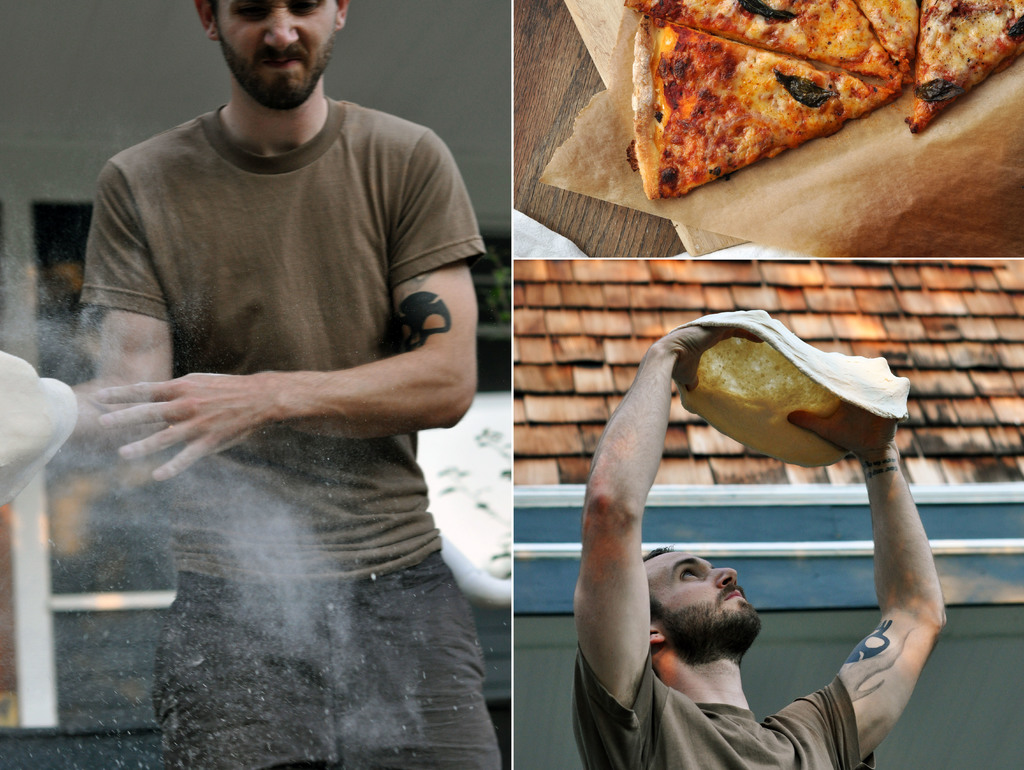Pizza: (603, 0, 1024, 206)
